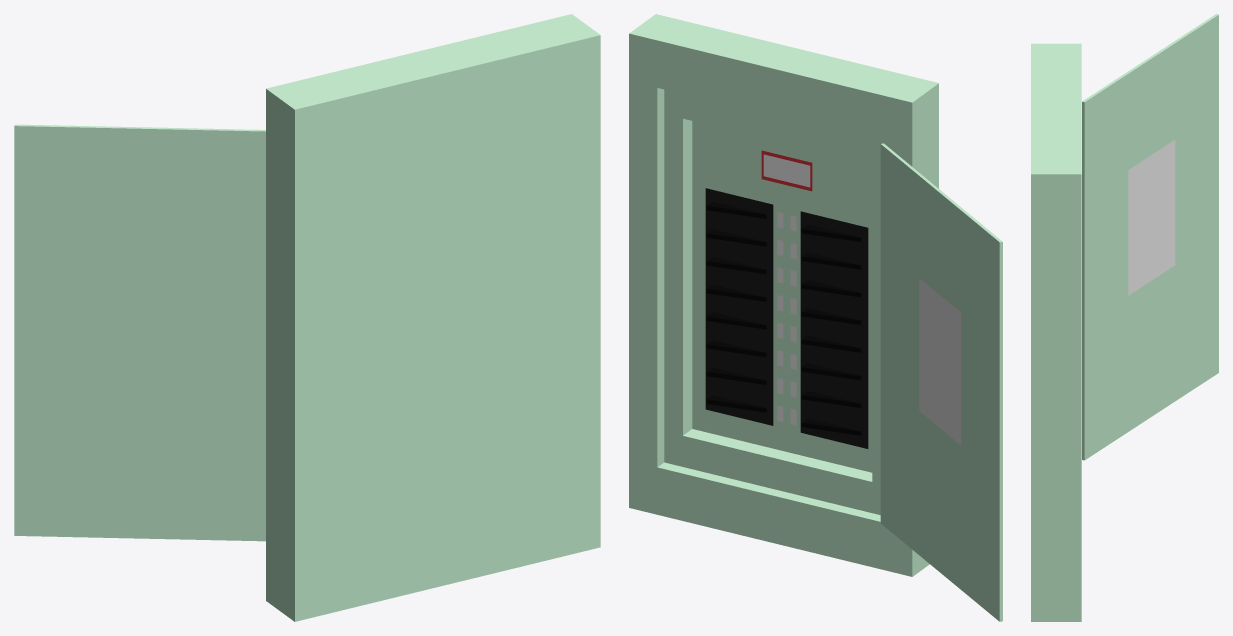
The model's file is LightBox.fbx.
The picture shows the model from 3 angles, left to right: view 1: azimuth 30°, elevation 25°; view 2: azimuth 150°, elevation 25°; view 3: azimuth 270°, elevation 25°; orthographic projection. The views are drawn at different scales.
Visible parts, largest first — view 1: Lighbox; view 2: Lighbox; view 3: Lighbox.
Boxes of the visible parts, x1,y1,x2,y2 form: Lighbox: [14, 14, 600, 621]; Lighbox: [629, 14, 1002, 621]; Lighbox: [1031, 14, 1218, 621].
Size of the model in its own units: 1.57 by 0.6084 by 1.6.
